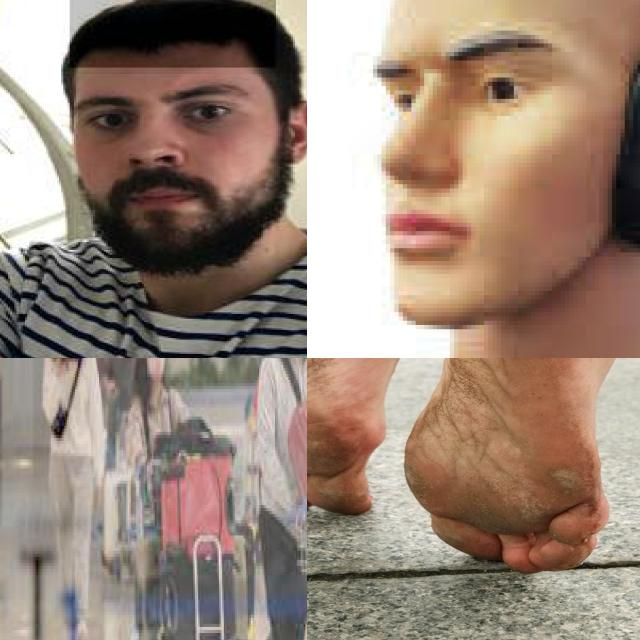Barefoots: (395, 358, 611, 574)
Ear-protection: (553, 0, 640, 261)
No_Ear-Protection: (270, 85, 307, 174)
No_Glasses: (51, 69, 273, 147)
face_nomask: (72, 74, 274, 274), (147, 358, 164, 373)
head_nohelmet: (70, 0, 276, 67)
person: (0, 0, 307, 358), (33, 358, 106, 640), (244, 358, 307, 640), (108, 358, 190, 544)
